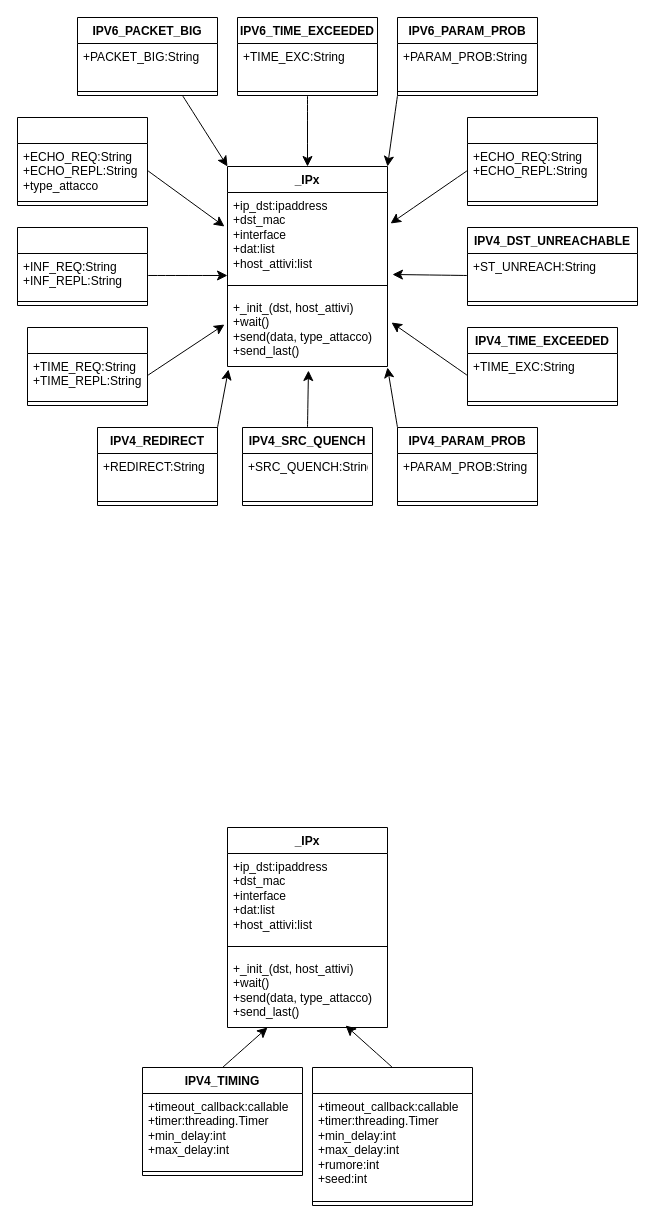
Image size: 655x1223. Some labels were removed from this diagram. Here are the shapes that lost their labels. From the top down, the box of each, then its label:
(16, 116, 148, 206): IPV4_ECHO
(466, 116, 598, 206): IPV6_ECHO
(16, 226, 148, 306): IPV4_INFORMATION
(26, 326, 148, 406): IPV4_TIMESTAMP
(312, 1066, 472, 1206): IPV4_TIMING_NOISE
